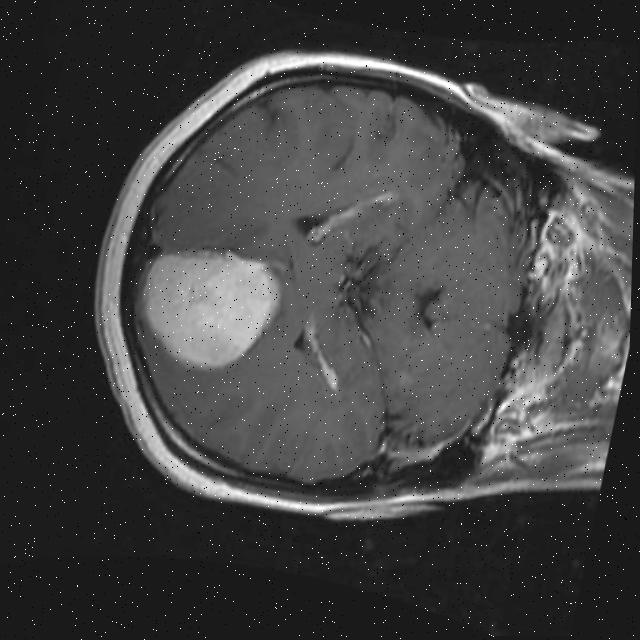Meningioma: (127, 236, 289, 380)
